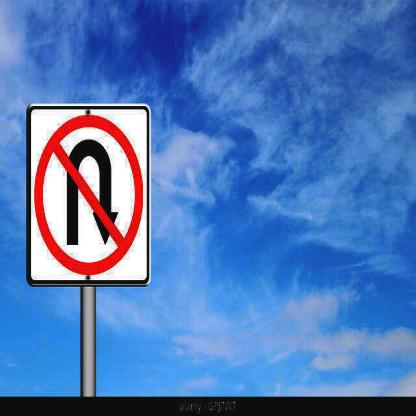No U-turn: (26, 109, 147, 286)
